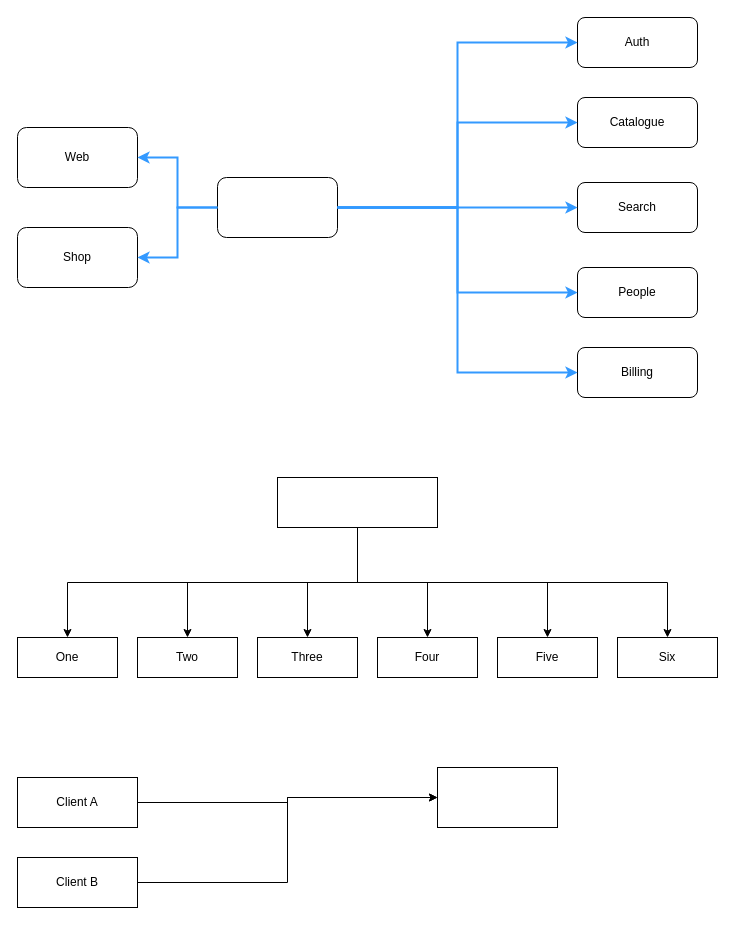
This 735x925 diagram has some shape labels left out. The centre of each missing label's shape, as x and y in pixels:
"Gateway" goes at (x=277, y=207).
"Hub" goes at (x=357, y=502).
"Service" goes at (x=497, y=797).
